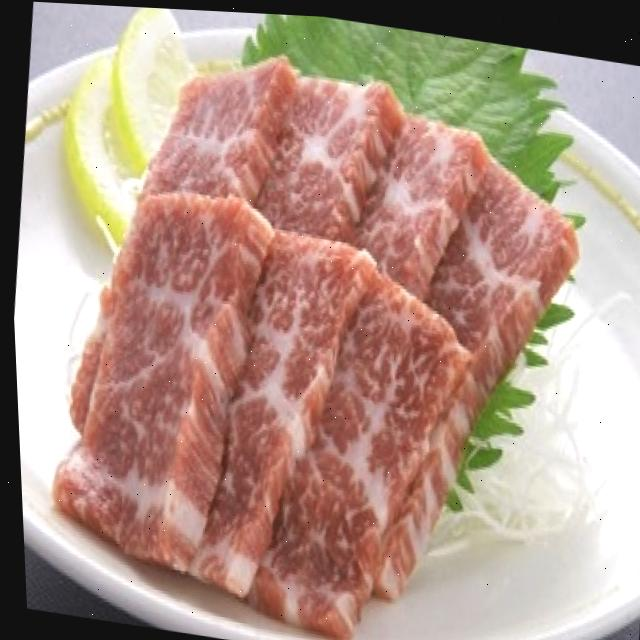刺身生食: (0, 1, 640, 640)
